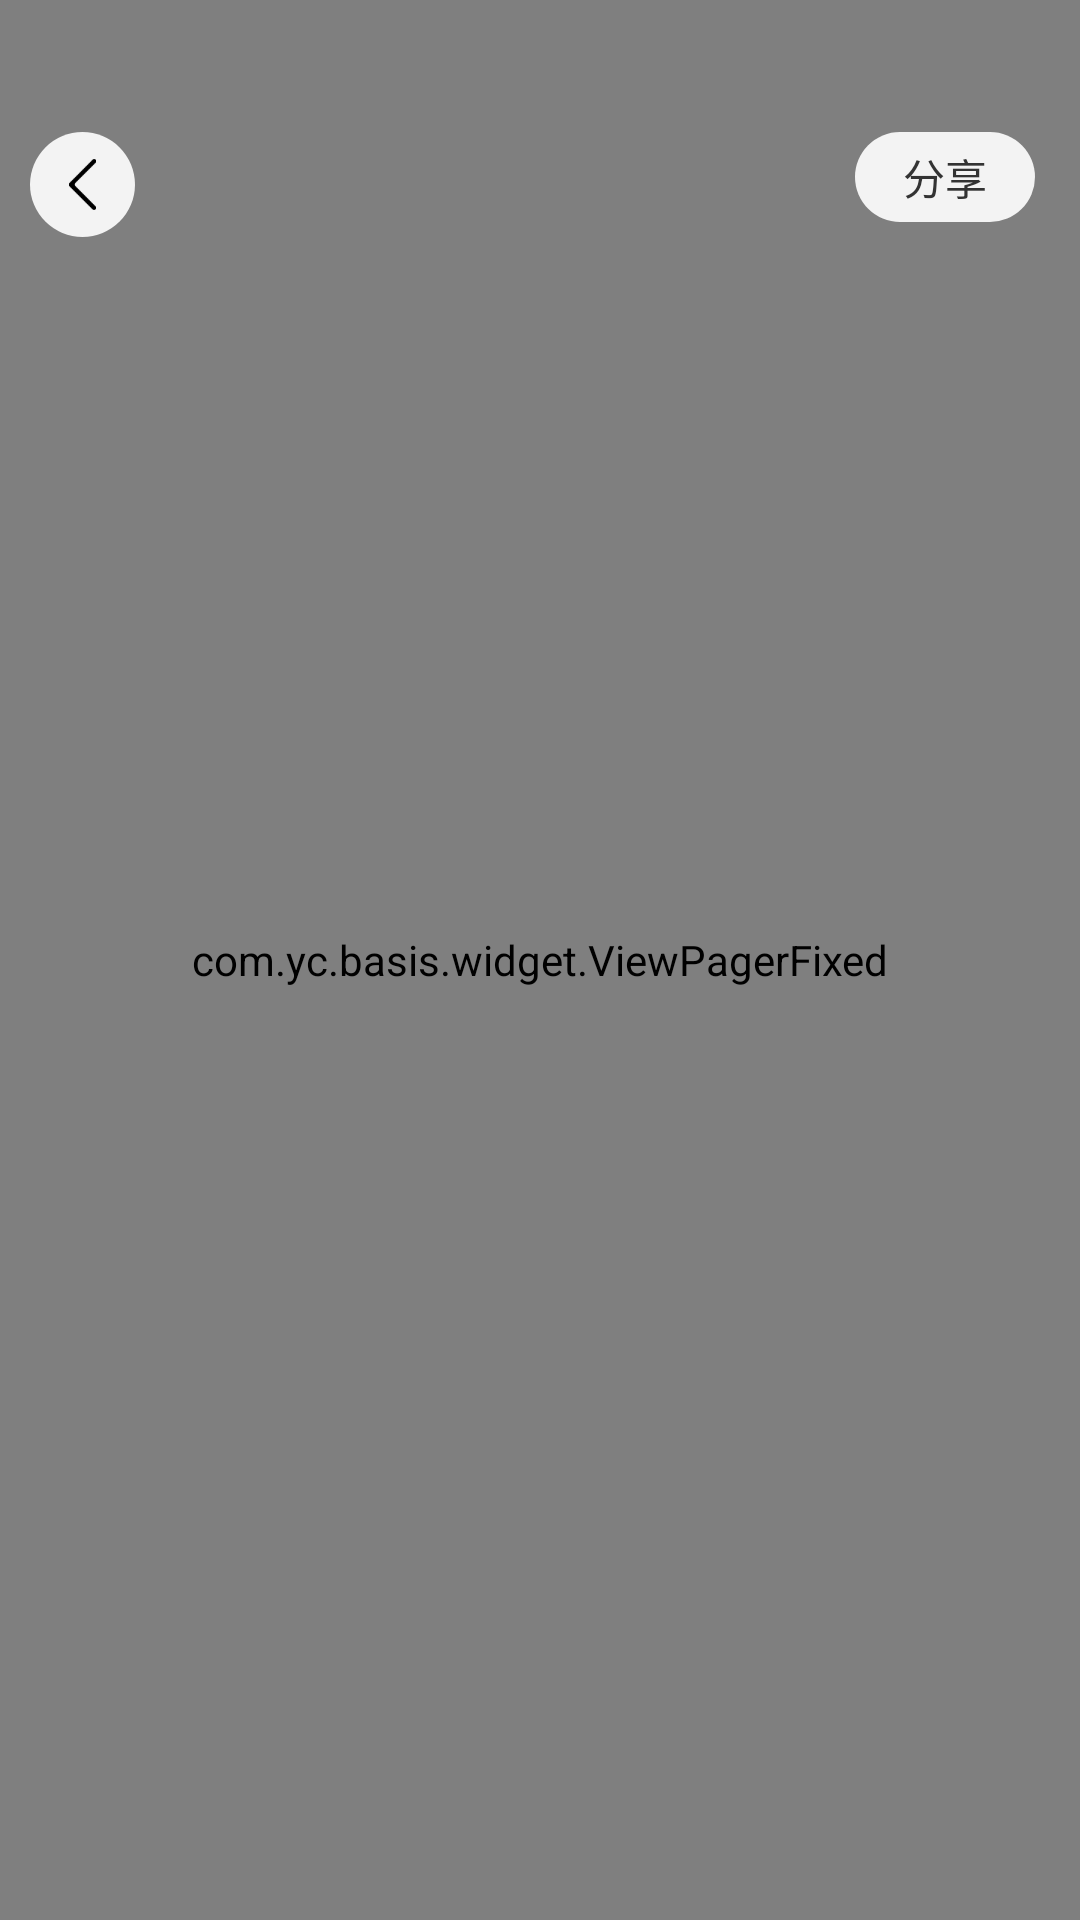

Icon click points for this 1080 × 1920 phone screenshot, format (x,y):
back: (82,184)
